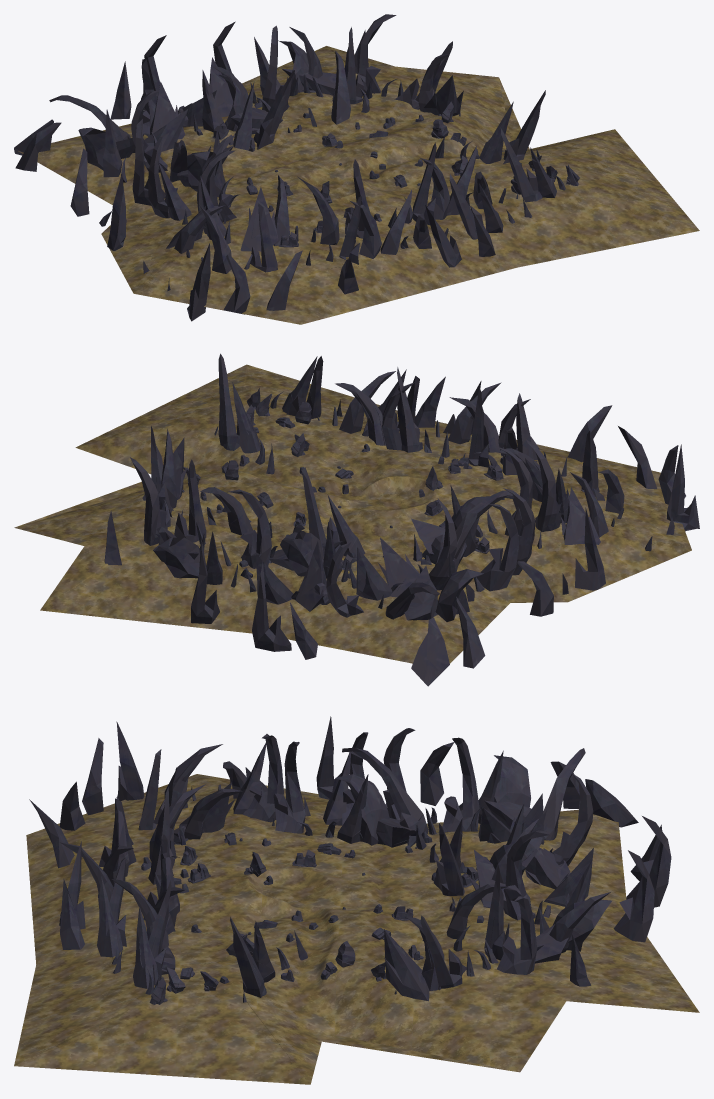
The model's file is Island02_shipwreck01.fbx.
The picture shows the model from 3 angles, top to bottom: view 1: azimuth 30°, elevation 25°; view 2: azimuth 150°, elevation 25°; view 3: azimuth 270°, elevation 25°; orthographic projection. The views are drawn at different scales.
Visible parts, largest first — view 1: Shipwreck_Island_Rocks; view 2: Shipwreck_Island_Rocks; view 3: Shipwreck_Island_Rocks.
Part boxes in pixels (x1,y1,x2,y2): Shipwreck_Island_Rocks: (14,14,699,324); Shipwreck_Island_Rocks: (14,353,699,686); Shipwreck_Island_Rocks: (14,716,699,1084).
Bounding box in the file's own units: 224 × 43.3 × 208.
2 materials, 2 textured.
